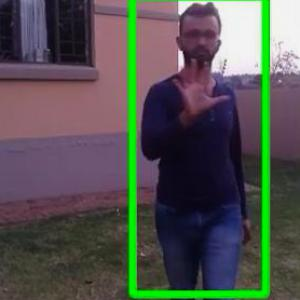follow_hand: (168, 52, 231, 120)
